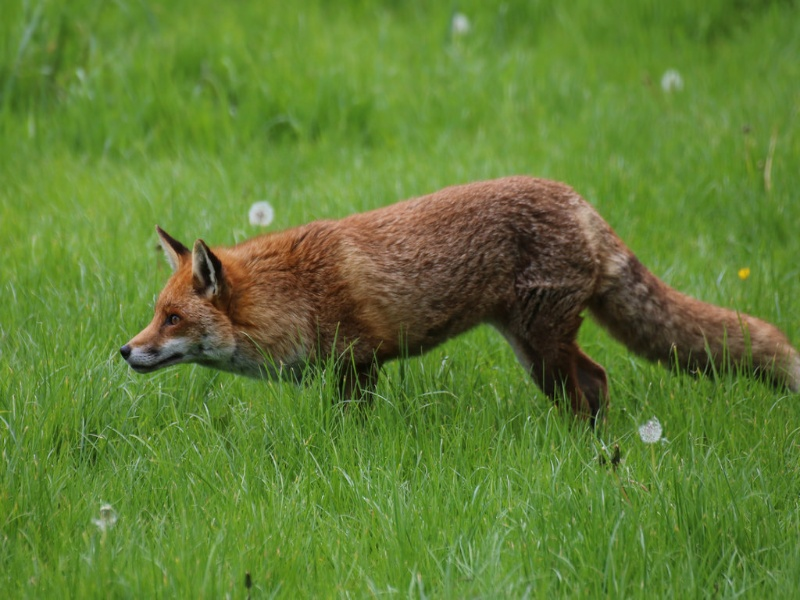fox: (118, 164, 800, 430)
